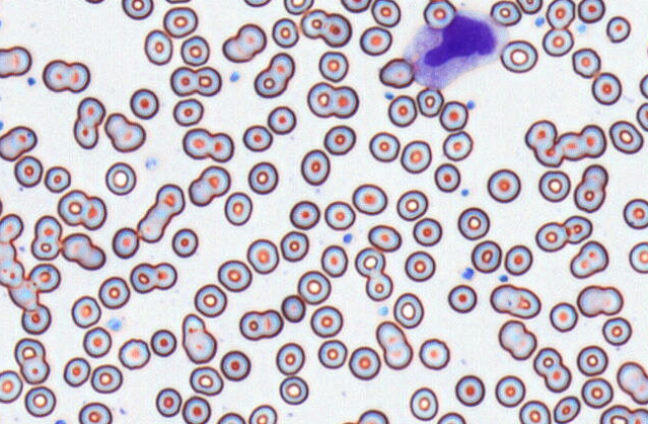MONO: (398, 7, 517, 96)
PLT: (460, 266, 475, 282), (106, 318, 122, 332), (227, 70, 241, 83), (342, 231, 354, 245), (25, 75, 38, 87), (381, 89, 394, 101), (465, 98, 476, 112), (535, 14, 546, 27), (496, 273, 510, 283), (377, 305, 387, 316), (54, 417, 69, 424), (460, 187, 470, 197)
RBC: (136, 183, 185, 243), (57, 189, 107, 230), (300, 8, 352, 47), (253, 52, 295, 98), (306, 81, 358, 118), (524, 119, 564, 167), (489, 283, 541, 319), (557, 123, 606, 161), (375, 320, 412, 370), (221, 22, 266, 63), (181, 313, 217, 364), (182, 127, 234, 162), (532, 346, 571, 392), (187, 165, 230, 206), (573, 163, 608, 213), (60, 232, 106, 270), (13, 337, 50, 384), (73, 96, 105, 149), (42, 58, 90, 93), (104, 112, 145, 152), (170, 65, 221, 97), (498, 319, 536, 360), (576, 284, 623, 317), (129, 261, 177, 293), (569, 240, 608, 279), (30, 214, 62, 260), (238, 308, 283, 340), (616, 361, 647, 404), (0, 125, 37, 161), (500, 39, 537, 73), (608, 120, 643, 154), (486, 168, 520, 203), (246, 238, 279, 274), (193, 283, 227, 317), (297, 270, 331, 304), (217, 259, 252, 292), (162, 6, 198, 38), (348, 346, 381, 380), (457, 206, 490, 240), (352, 183, 387, 215), (378, 57, 414, 88), (393, 292, 424, 328), (300, 148, 330, 185), (104, 161, 136, 195), (98, 276, 130, 309), (310, 305, 343, 337), (470, 240, 502, 273), (189, 365, 223, 396), (400, 139, 431, 173), (144, 29, 173, 65), (24, 385, 56, 417), (538, 170, 570, 202), (418, 338, 450, 370), (219, 349, 251, 381), (396, 189, 428, 221), (535, 221, 568, 252), (70, 295, 101, 328), (591, 72, 622, 105), (359, 25, 392, 56), (323, 124, 356, 155), (247, 161, 278, 194), (409, 386, 438, 421), (581, 377, 613, 408), (118, 338, 150, 369), (576, 345, 608, 376), (0, 45, 31, 77), (494, 375, 525, 407), (368, 131, 400, 162), (454, 374, 485, 406), (404, 250, 435, 282), (27, 262, 60, 292), (13, 154, 43, 187), (275, 342, 305, 375), (387, 94, 417, 127), (7, 279, 38, 310), (442, 130, 473, 161), (318, 50, 348, 82), (423, 0, 456, 29), (367, 224, 401, 252), (224, 191, 252, 225), (354, 247, 385, 277), (21, 303, 51, 334), (571, 47, 601, 78), (129, 88, 159, 119), (324, 200, 355, 230), (82, 326, 111, 358), (90, 364, 122, 393), (542, 27, 574, 56), (280, 230, 309, 262), (320, 244, 348, 277), (317, 339, 347, 369), (602, 316, 632, 346), (549, 301, 578, 332), (180, 35, 209, 66), (172, 97, 203, 126), (439, 100, 468, 131), (289, 200, 320, 229), (111, 226, 139, 258), (562, 215, 592, 244), (545, 0, 575, 29), (279, 375, 308, 405), (447, 284, 477, 313), (412, 217, 442, 246), (504, 244, 532, 275), (271, 17, 299, 48), (267, 105, 296, 134), (181, 395, 211, 423), (242, 124, 272, 152), (63, 356, 90, 387), (370, 0, 401, 27), (416, 86, 443, 117), (489, 0, 521, 26), (365, 271, 392, 301), (155, 387, 182, 417), (171, 227, 198, 257), (150, 328, 177, 357), (0, 369, 23, 403), (434, 162, 460, 192), (518, 399, 550, 423), (44, 165, 71, 193), (553, 395, 580, 423), (78, 401, 112, 423), (623, 198, 647, 229), (280, 294, 305, 322), (606, 15, 631, 43), (0, 258, 24, 287), (0, 213, 23, 243), (599, 404, 633, 423), (577, 0, 605, 23), (628, 241, 647, 273), (121, 0, 153, 19), (248, 404, 277, 423), (283, 0, 314, 15), (356, 409, 388, 423), (340, 0, 370, 13), (516, 0, 542, 14), (216, 411, 245, 423), (436, 411, 465, 423), (636, 102, 647, 131), (0, 241, 15, 262), (630, 408, 647, 423), (639, 73, 647, 99), (243, 0, 271, 7), (644, 34, 648, 61), (165, 0, 191, 4), (84, 0, 105, 4)
